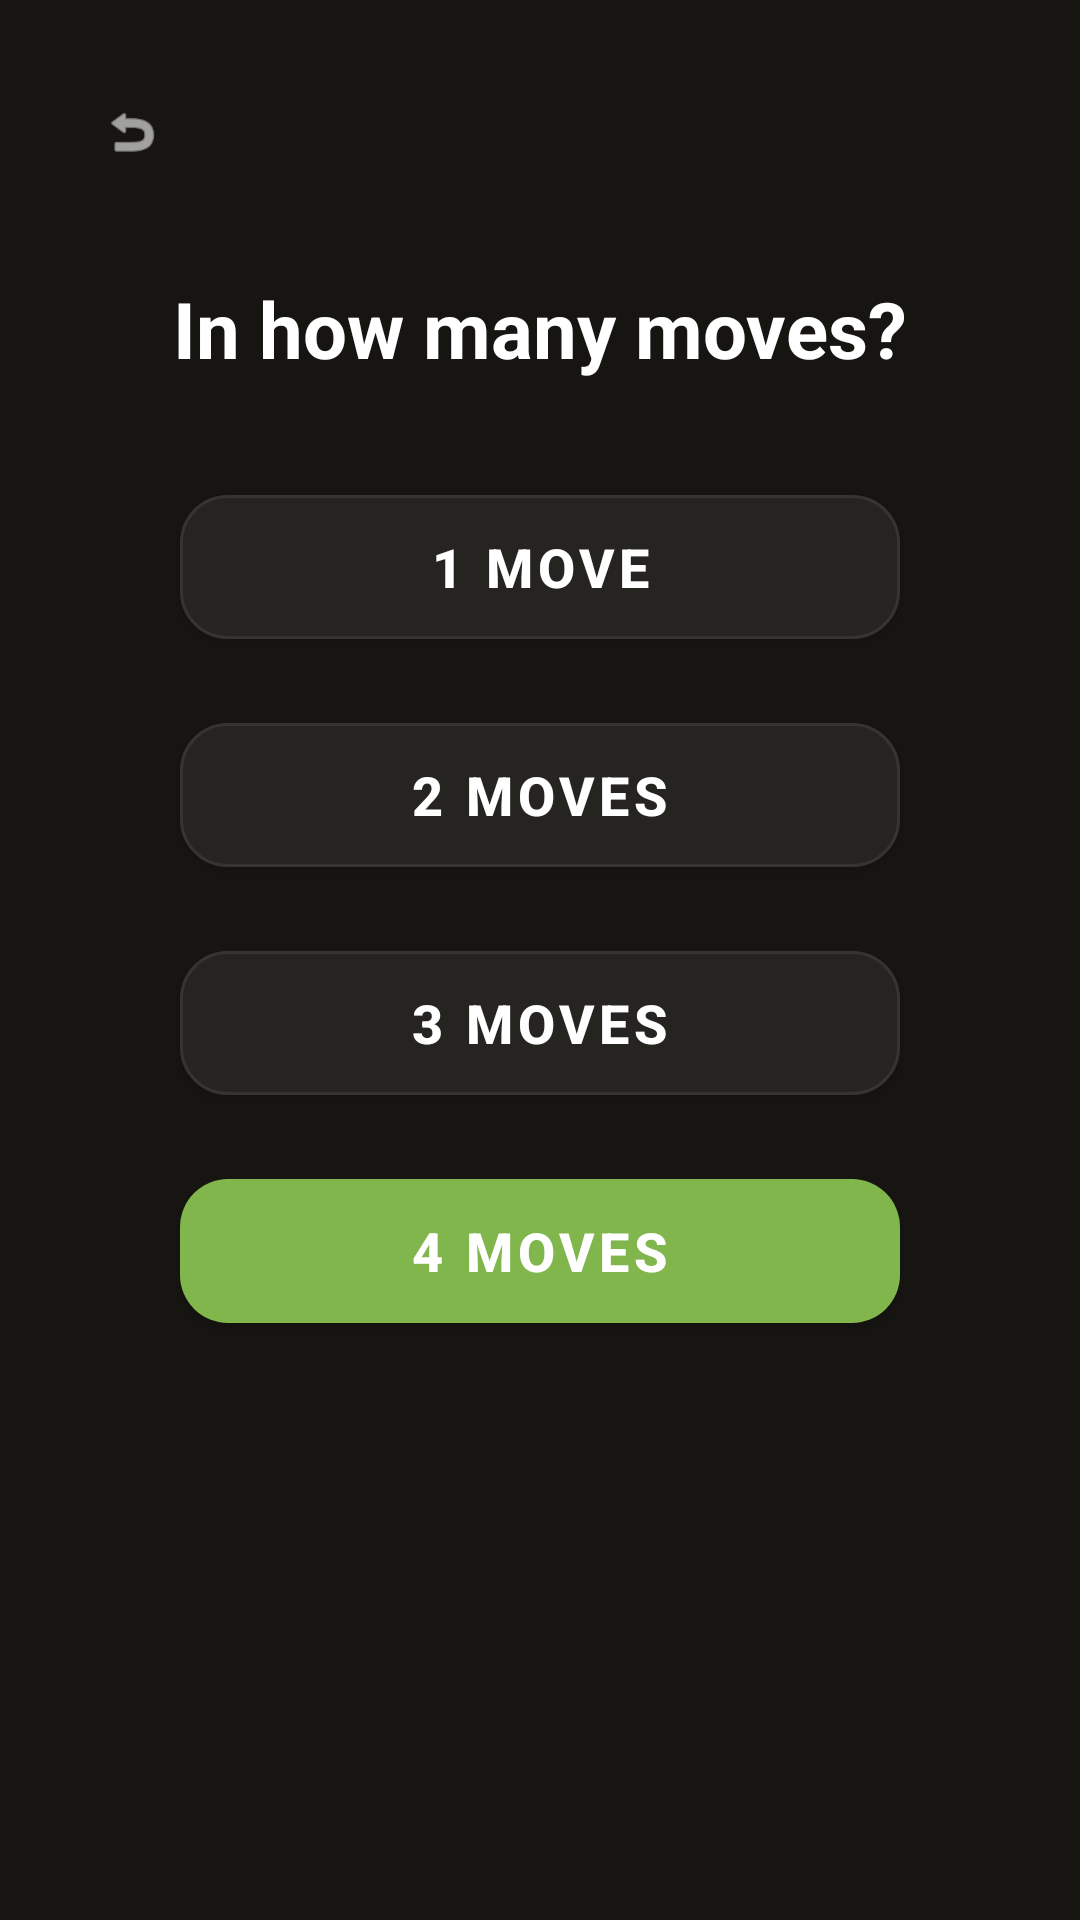

Icons on this 1080w x 1920h Android screen, each with its box as box(x1, y1, x2, y2):
Back: box(111, 113, 154, 152)
